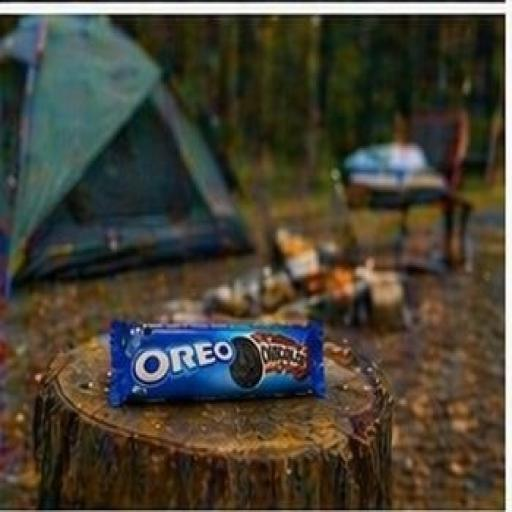oreo: (96, 275, 384, 447)
